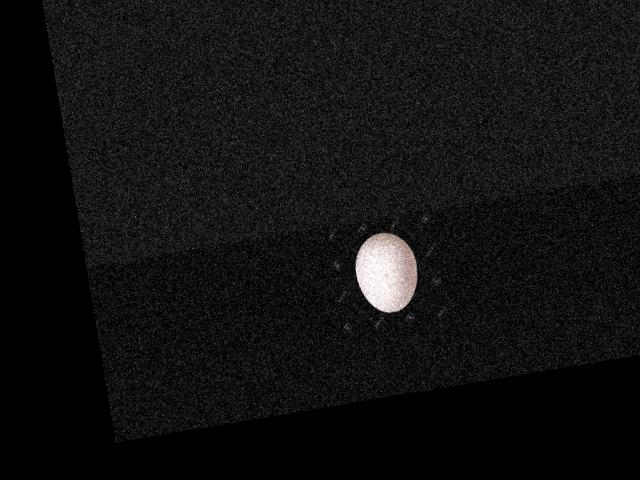egg: (350, 228, 422, 316)
